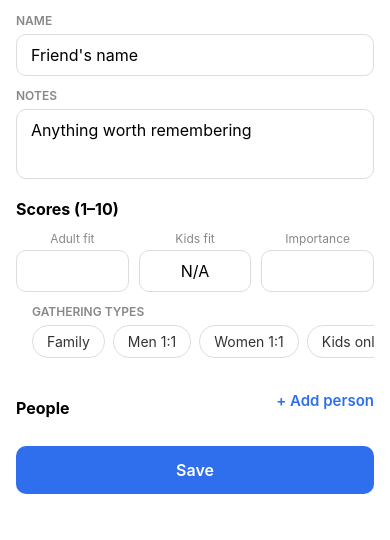
Test: FriendFormScreen (add) › submit__adult_fit_score_out_of_range__shows_validation_error
Step 1. Type "Dan" into the field with placeholder "Friend's name" → (195, 55), box [16, 34, 374, 76]
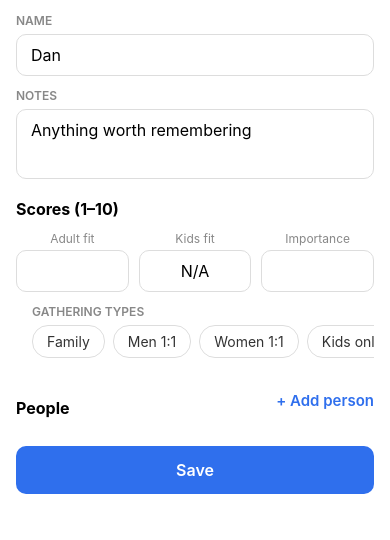
Step 2. Type "11" into the field with test id "adult-fit-score" → (72, 271), box [16, 250, 129, 292]
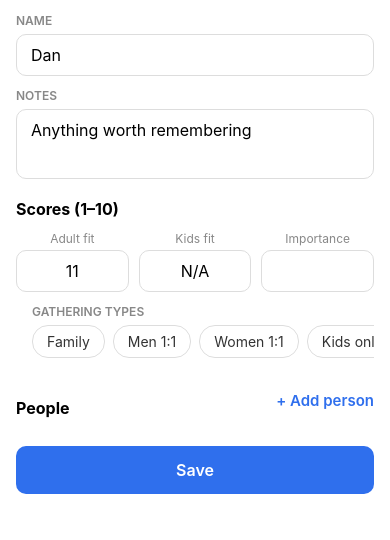
Step 3. Click the element with test id "save-friend" → (195, 470), box [16, 446, 374, 494]
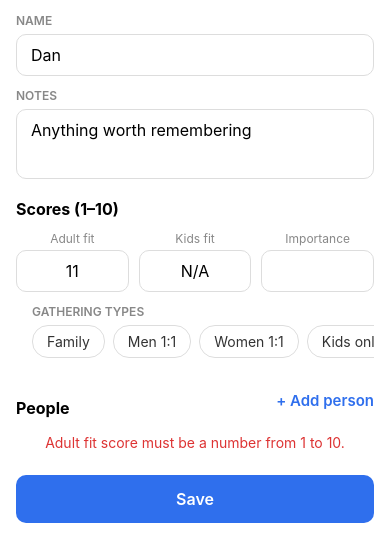
Check: the text "Adult fit score must be a number from 1 to 10." is shown, box [45, 434, 345, 451]
